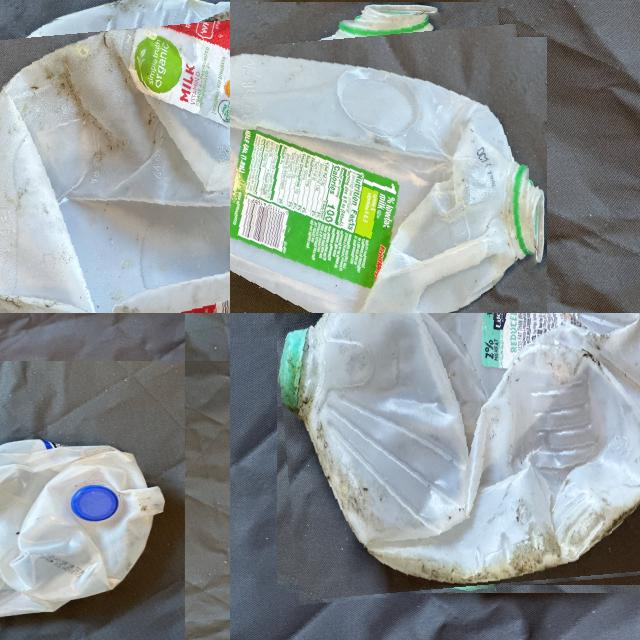milk-jug: (272, 313, 640, 596), (230, 12, 536, 313), (0, 4, 230, 313), (0, 437, 166, 622)
